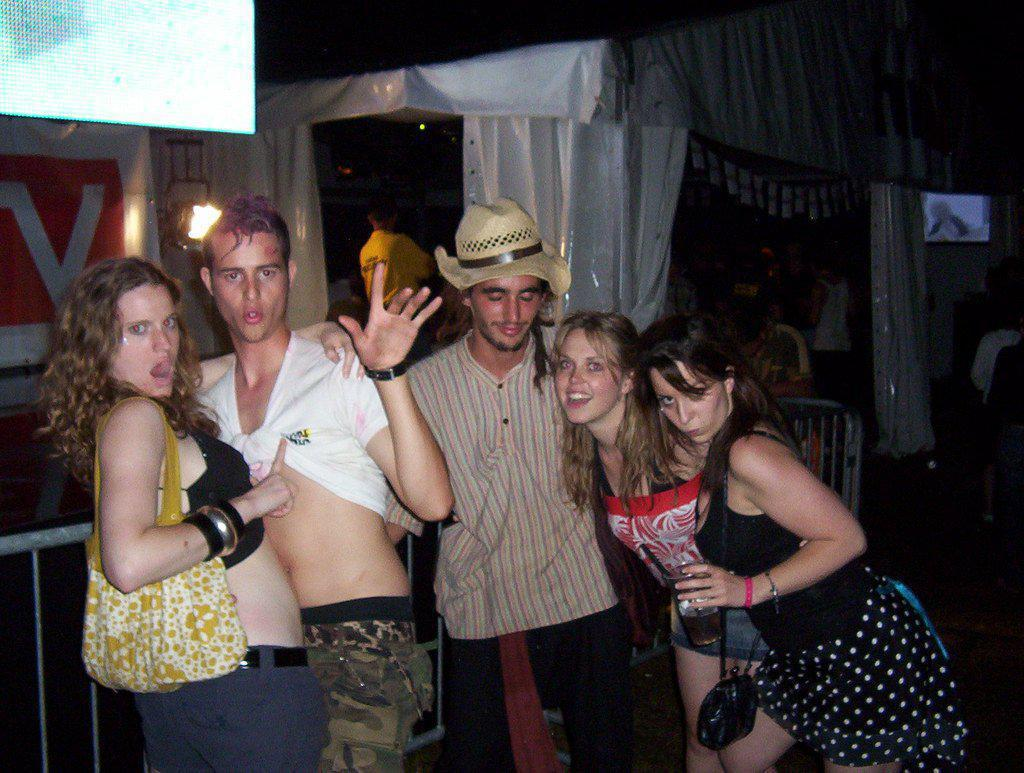Drunk: (206, 234, 290, 337), (117, 289, 183, 395), (649, 365, 724, 438), (557, 332, 617, 419), (474, 272, 540, 344)
